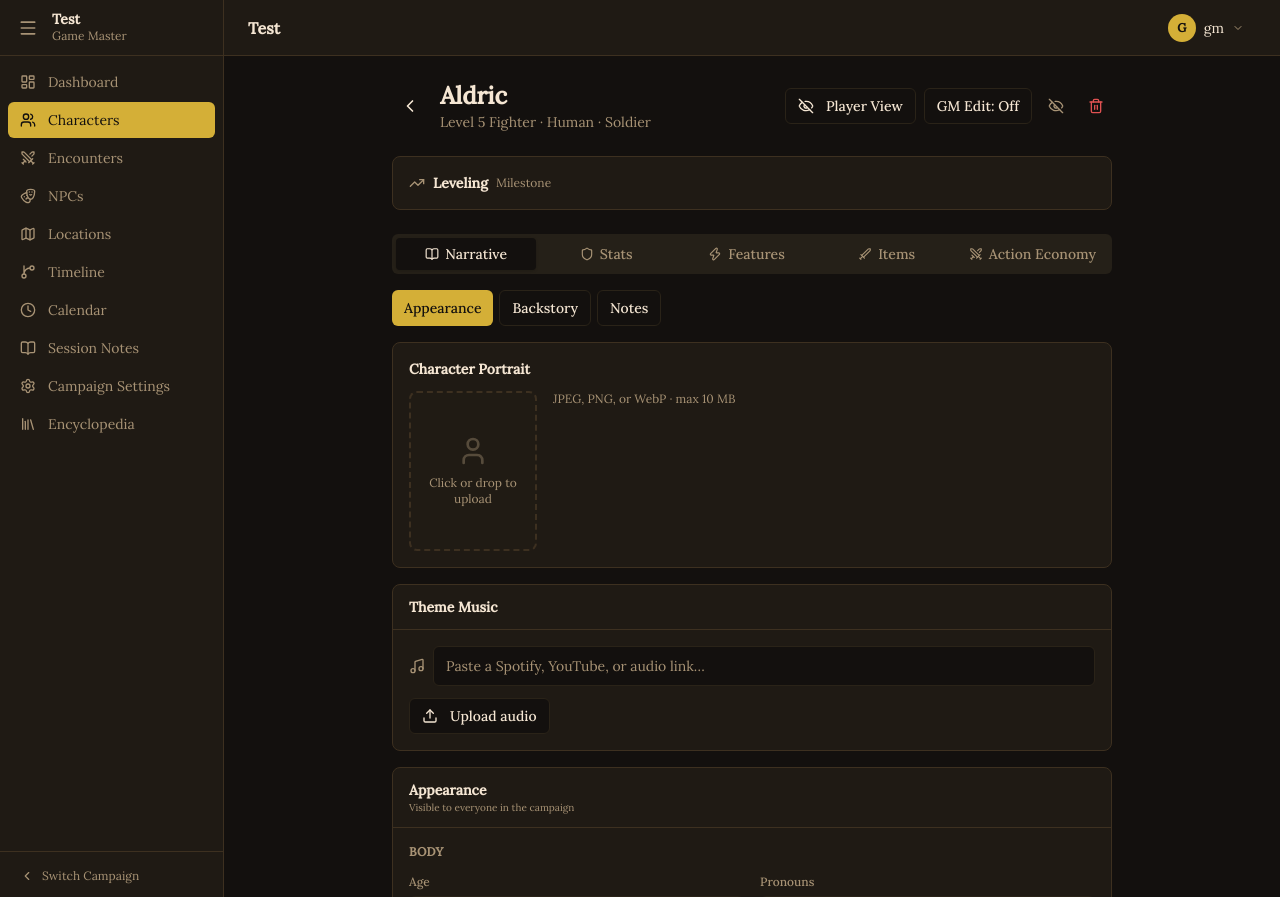
Test: CharacterDetail › GM view › switching to player view hides GM Notes
Click the button with test id "narrative-subtab-notes". click: (629, 308)
box: [597,290,661,326]
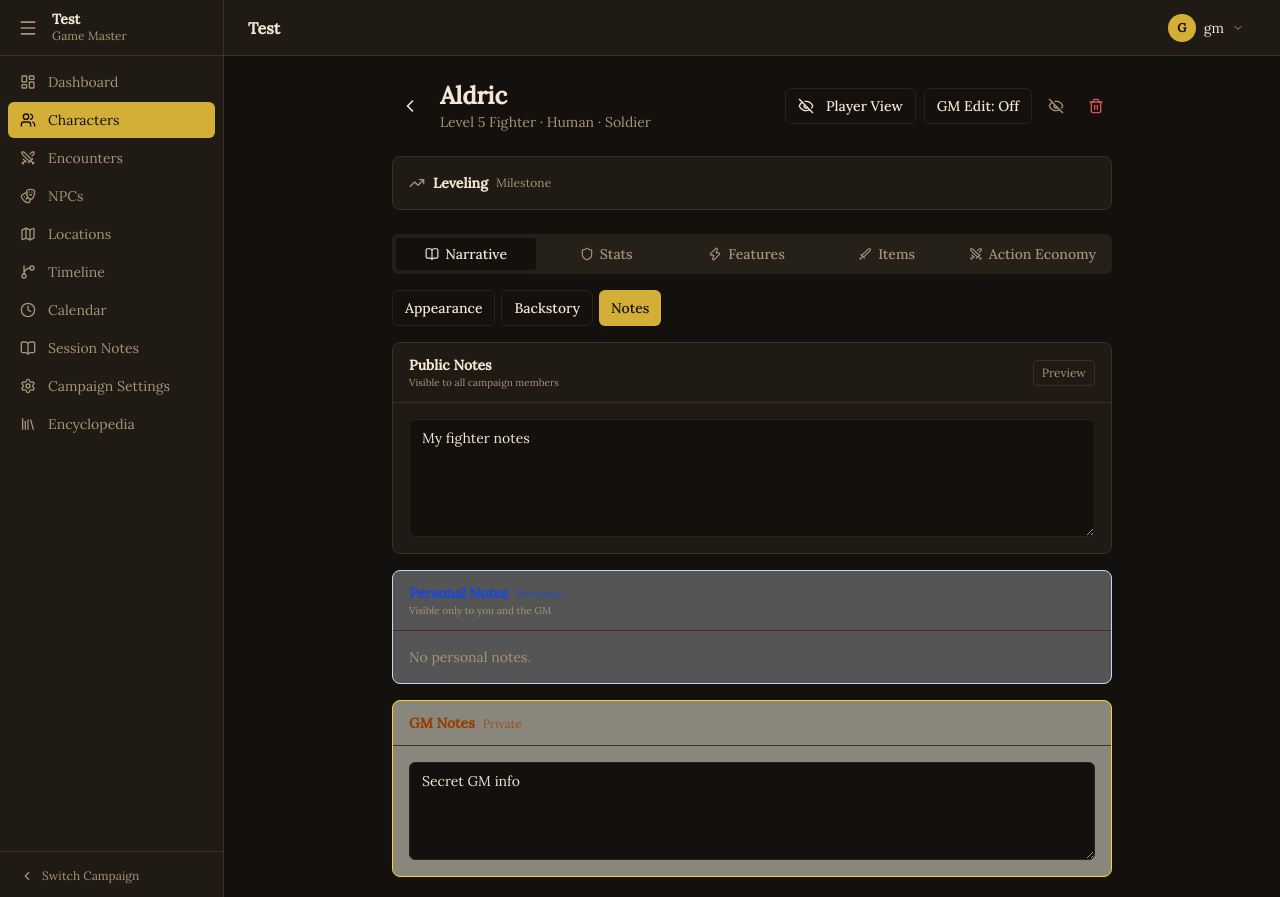
Now the heading "GM Notes" is shown, box [409,714,475,732]
Click the button "Player View". click: (850, 106)
box: [785,88,916,124]
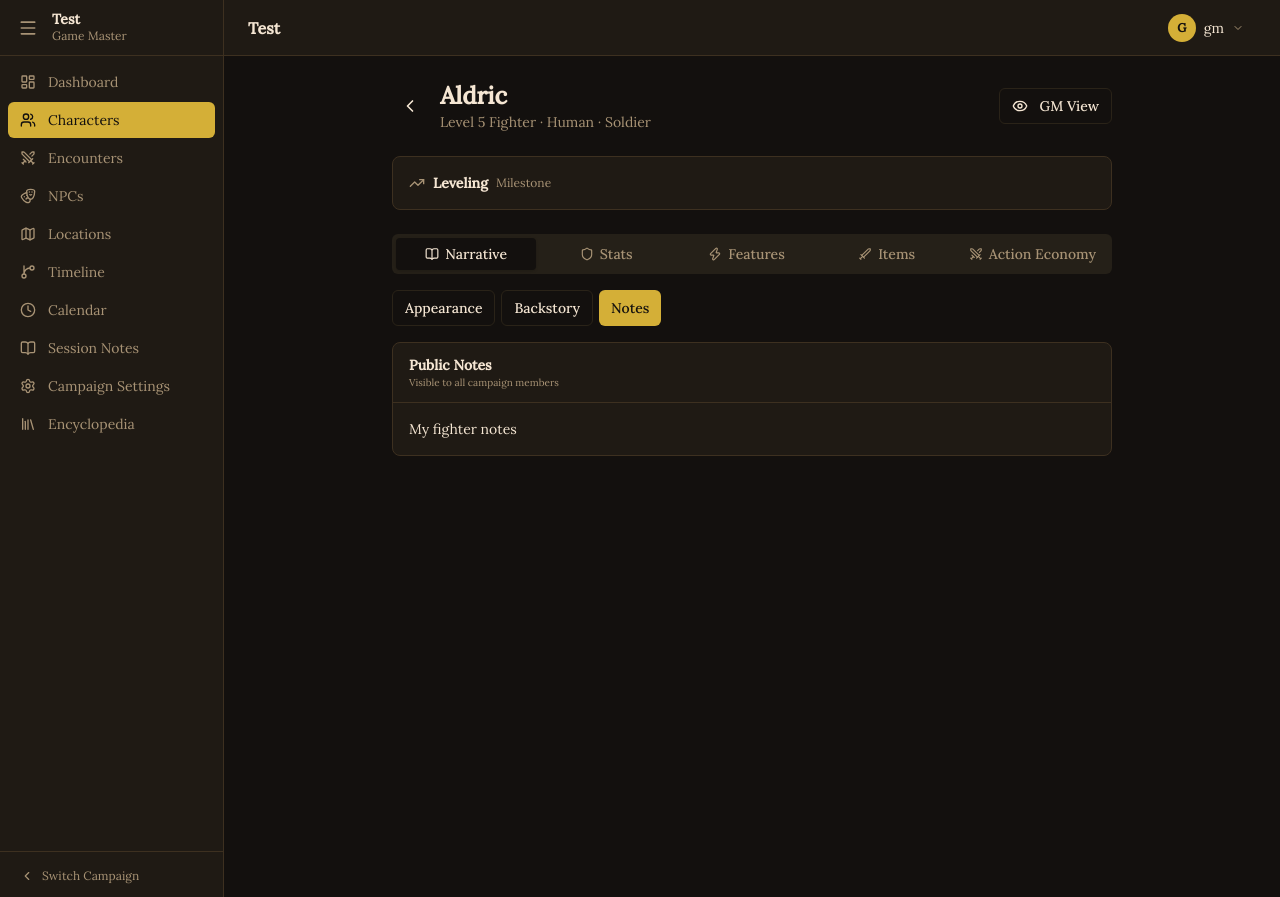
Now the heading "GM Notes" is gone
